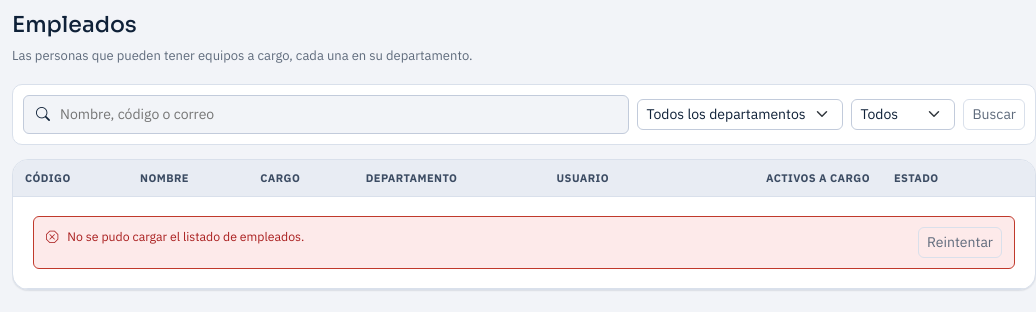
Empleados › si no carga lo dice, sin filas a medias, y deja reintentar
Expected: the message shows "No se pudo cargar el listado de empleados.", [67,228,304,244]
Click the button "Reintentar".
click(960, 243)  # box [918,227,1002,258]
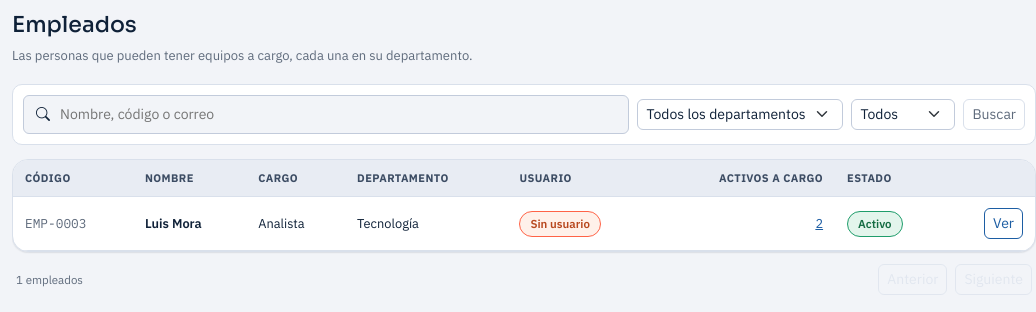
Expected: the text "Luis Mora" is shown, [133,197,246,251]
Expected: the message "No se pudo cargar el listado de empleados. Reintentar" is gone
